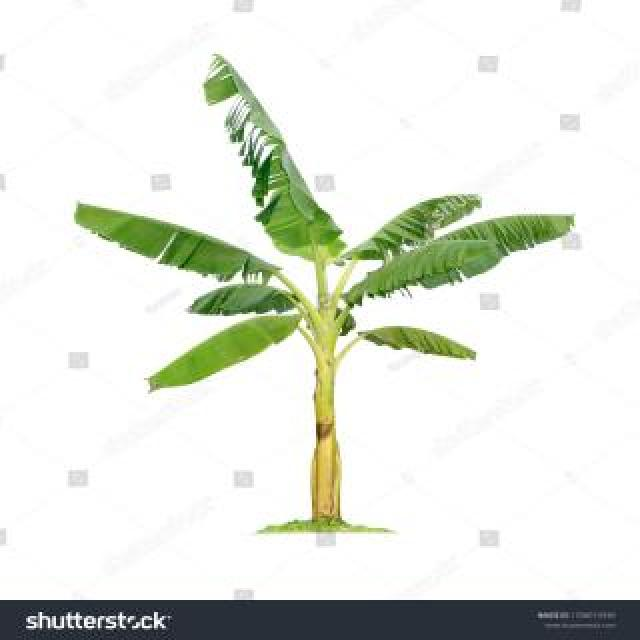Pisang: (75, 61, 581, 530)
